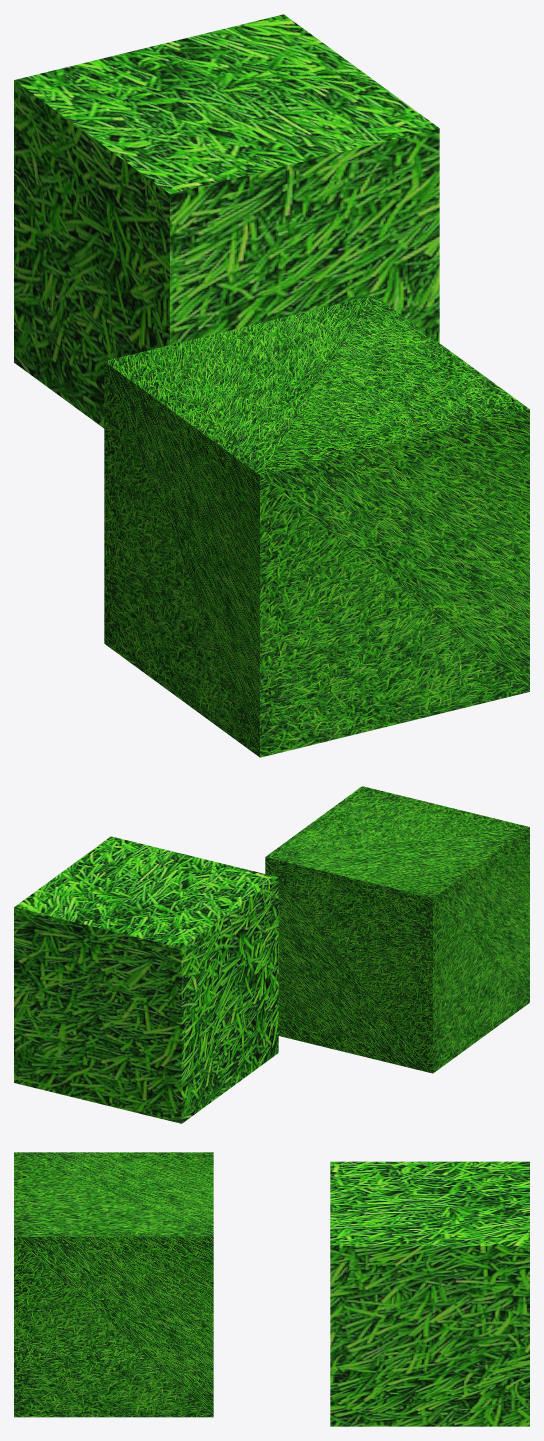
Rendered from AnimatedMorphCube.glb.
The picture shows the model from 3 angles, top to bottom: view 1: azimuth 30°, elevation 25°; view 2: azimuth 150°, elevation 25°; view 3: azimuth 270°, elevation 25°; orthographic projection. The views are drawn at different scales.
Parts seen in each view (by area): view 1: AnimatedMorphCube; view 2: AnimatedMorphCube; view 3: AnimatedMorphCube.
Boxes of the visible parts, x1=… form: AnimatedMorphCube: x1=14, y1=14, x2=529, y2=757; AnimatedMorphCube: x1=14, y1=786, x2=529, y2=1123; AnimatedMorphCube: x1=14, y1=1152, x2=529, y2=1426.
Bounding box in the file's own units: 3.16 × 2.44 × 5.17.
Materials: 1 (1 with a texture image).
